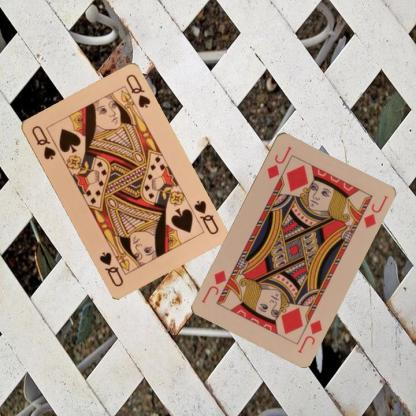Jd: (294, 317, 324, 354), (264, 143, 293, 180)
Qs: (28, 123, 57, 161), (191, 198, 220, 235)
